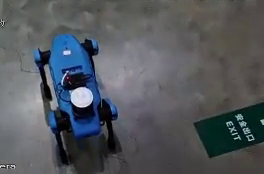robot dog: (31, 32, 126, 173)
